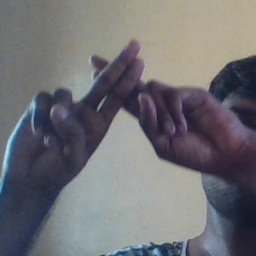F: (62, 35, 182, 157)
